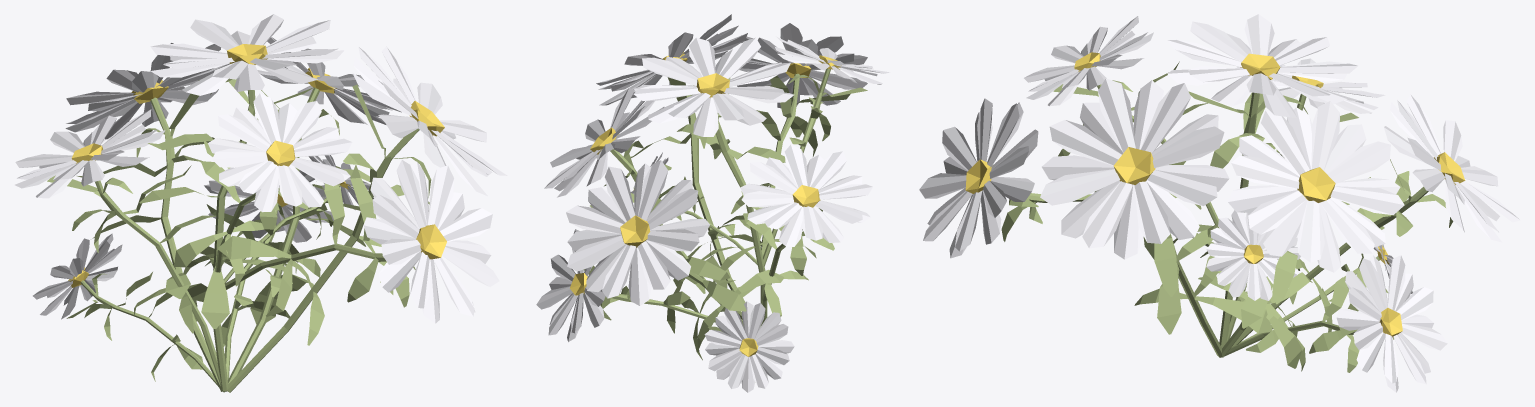
The model's file is Flower.fbx.
3 renders of one model, left to right at view 1: azimuth 30°, elevation 25°; view 2: azimuth 150°, elevation 25°; view 3: azimuth 270°, elevation 25°, orthographic. The views are drawn at different scales.
Visible parts, largest first — view 1: node_margarita (8)_-2121834, node_margarita (9)_-2122542, node_margarita_-2109454, node_margarita (6)_-2117574, node_margarita (4)_-2111692, node_margarita (1)_-2110252, node_margarita (3)_-2111142, node_margarita (5)_-2111982, node_margarita (2)_-2110504, node_margarita (7)_-2118288; view 2: node_margarita (1)_-2110252, node_margarita_-2109454, node_margarita (4)_-2111692, node_margarita (5)_-2111982, node_margarita (8)_-2121834, node_margarita (3)_-2111142, node_margarita (6)_-2117574, node_margarita (2)_-2110504, node_margarita (9)_-2122542, node_margarita (7)_-2118288; view 3: node_margarita (6)_-2117574, node_margarita (3)_-2111142, node_margarita_-2109454, node_margarita (2)_-2110504, node_margarita (8)_-2121834, node_margarita (1)_-2110252, node_margarita (9)_-2122542, node_margarita (7)_-2118288, node_margarita (4)_-2111692, node_margarita (5)_-2111982.
Boxes of the visible parts, left/top/right/bottom form: node_margarita (8)_-2121834: left=218, top=160, right=499, bottom=323; node_margarita (9)_-2122542: left=174, top=93, right=352, bottom=286; node_margarita_-2109454: left=139, top=14, right=343, bottom=391; node_margarita (6)_-2117574: left=227, top=46, right=507, bottom=392; node_margarita (4)_-2111692: left=15, top=109, right=221, bottom=385; node_margarita (1)_-2110252: left=65, top=43, right=229, bottom=391; node_margarita (3)_-2111142: left=205, top=37, right=401, bottom=391; node_margarita (5)_-2111982: left=33, top=233, right=225, bottom=392; node_margarita (2)_-2110504: left=200, top=170, right=333, bottom=391; node_margarita (7)_-2118288: left=223, top=155, right=373, bottom=283; node_margarita (1)_-2110252: left=566, top=160, right=783, bottom=348; node_margarita_-2109454: left=633, top=37, right=816, bottom=325; node_margarita (4)_-2111692: left=720, top=144, right=872, bottom=325; node_margarita (5)_-2111982: left=704, top=301, right=794, bottom=392; node_margarita (8)_-2121834: left=731, top=23, right=867, bottom=256; node_margarita (3)_-2111142: left=544, top=87, right=743, bottom=333; node_margarita (6)_-2117574: left=596, top=14, right=761, bottom=303; node_margarita (2)_-2110504: left=536, top=229, right=735, bottom=360; node_margarita (9)_-2122542: left=761, top=36, right=889, bottom=266; node_margarita (7)_-2118288: left=630, top=152, right=757, bottom=264; node_margarita (6)_-2117574: left=1040, top=78, right=1272, bottom=357; node_margarita (3)_-2111142: left=1198, top=101, right=1404, bottom=368; node_margarita_-2109454: left=1167, top=14, right=1358, bottom=347; node_margarita (2)_-2110504: left=1224, top=255, right=1447, bottom=392; node_margarita (8)_-2121834: left=919, top=98, right=1213, bottom=259; node_margarita (1)_-2110252: left=1232, top=94, right=1520, bottom=346; node_margarita (9)_-2122542: left=1024, top=16, right=1218, bottom=227; node_margarita (7)_-2118288: left=1206, top=210, right=1300, bottom=300; node_margarita (4)_-2111692: left=1200, top=58, right=1385, bottom=342; node_margarita (5)_-2111982: left=1239, top=244, right=1413, bottom=343.
Bounding box in the file's own units: 223 × 186 × 299.
